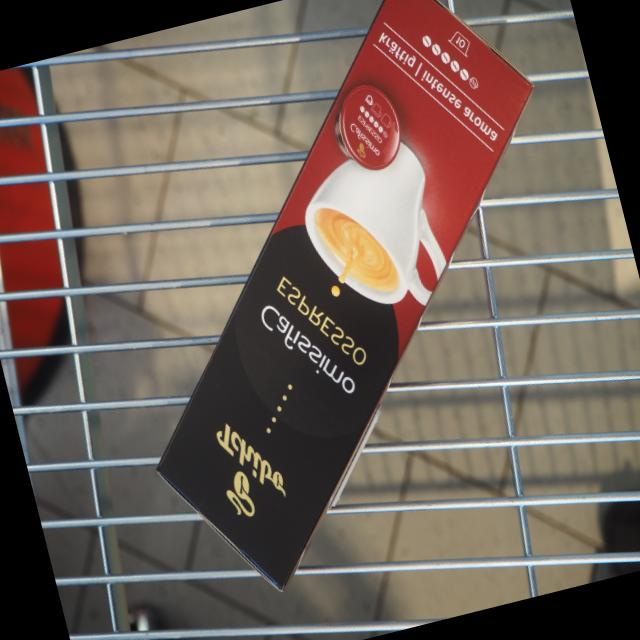Simo Es Kraft: (150, 0, 538, 602)
